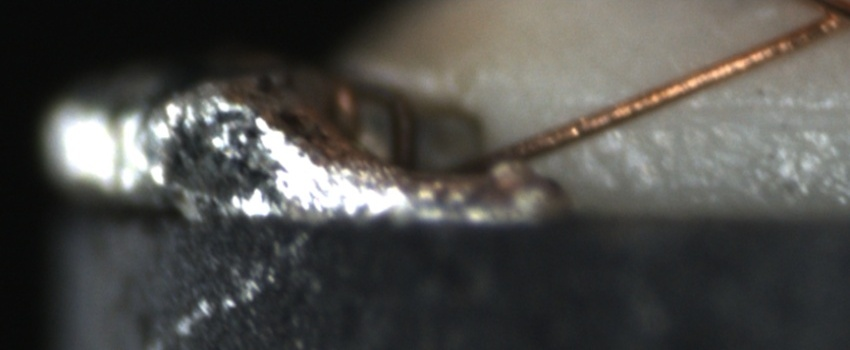CL: (802, 1, 848, 34)
DL: (629, 78, 850, 142)
TE: (329, 71, 420, 164)
